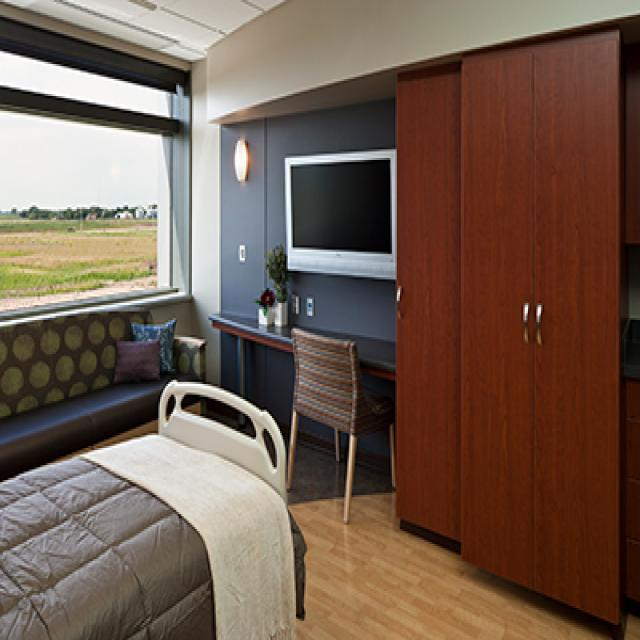Monitor: (273, 151, 400, 294)
bed: (0, 377, 304, 638)
chair: (263, 291, 404, 548)
sofa: (1, 302, 216, 479)
